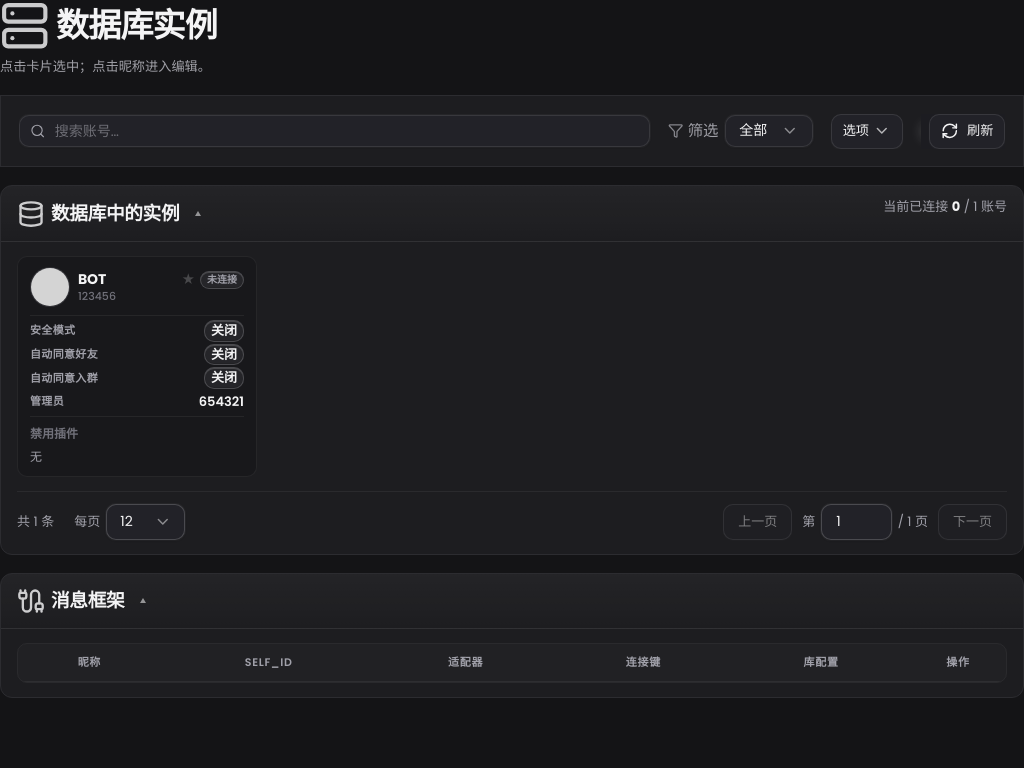
Scenario: BotConfigModal save reloads the real instances query with the saved config
Click the button "BOT". click: {"x": 92, "y": 280}
box: [78,271,106,288]
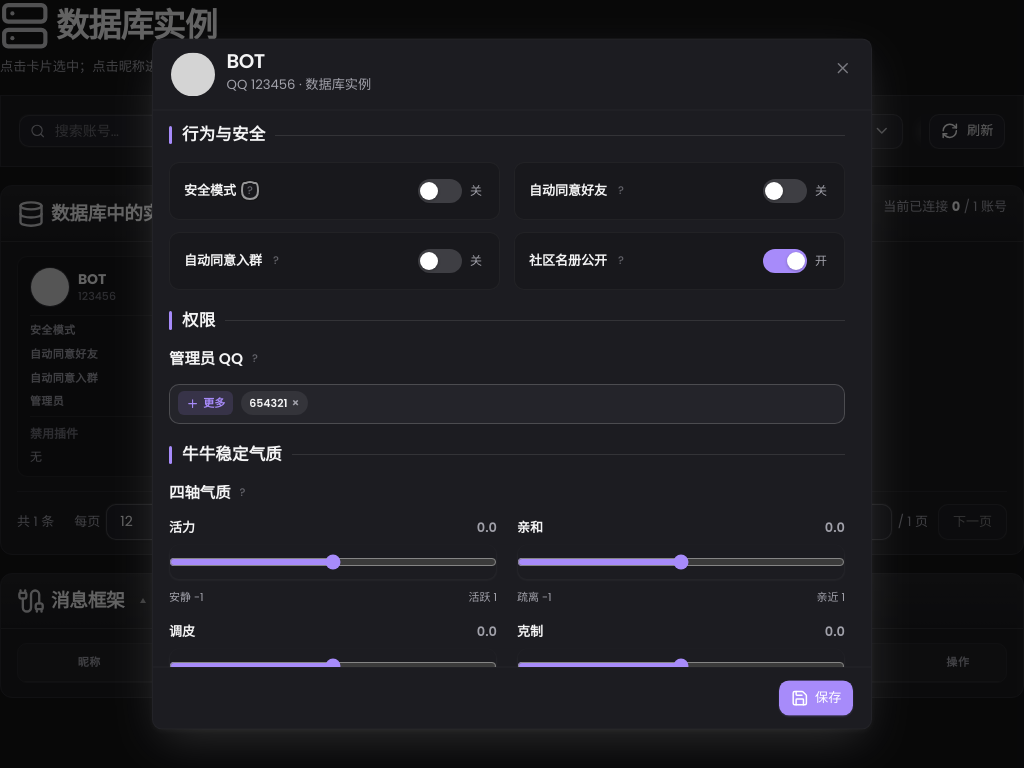
Click the checkbox labelled "安全模式 ?". click: {"x": 440, "y": 191}
box: [418,179,462,203]
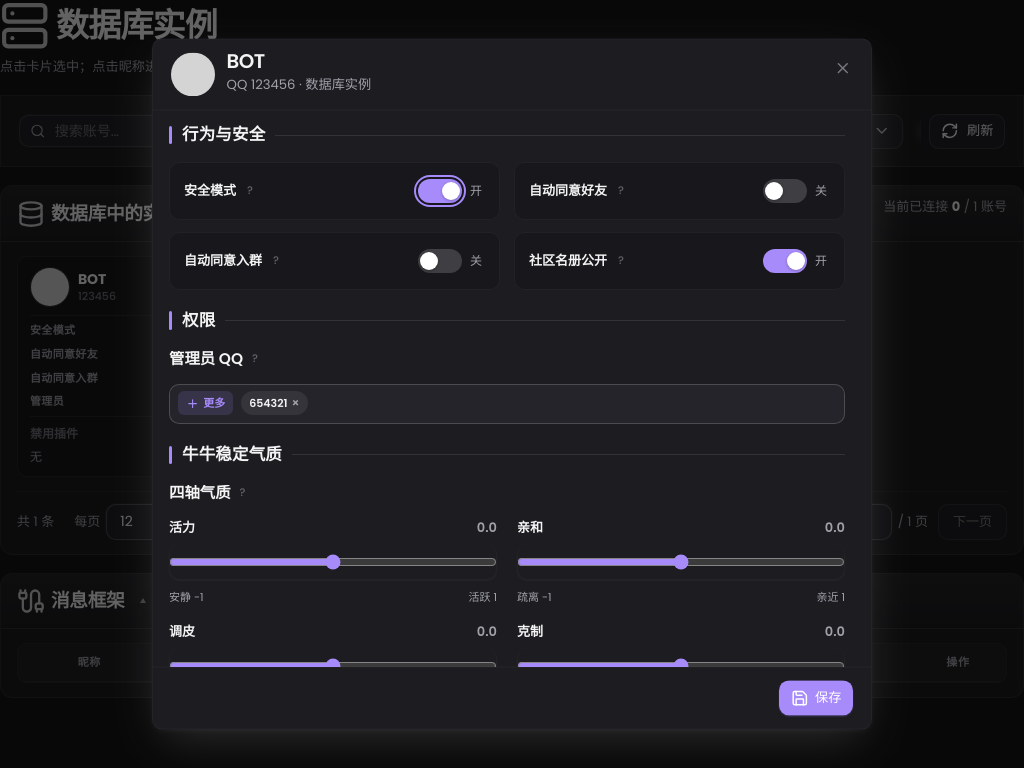
Click the button "保存". click: {"x": 816, "y": 698}
box: [779,680,853,715]
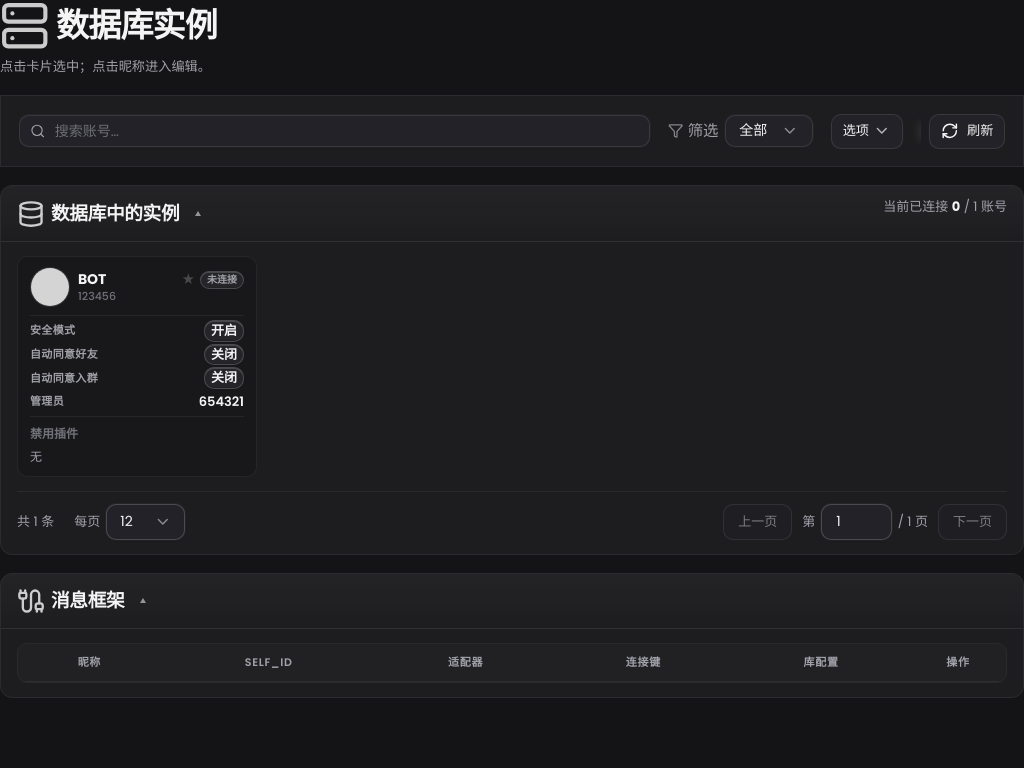
expect the text "开启" is shown: met, box [204,320,244,342]
